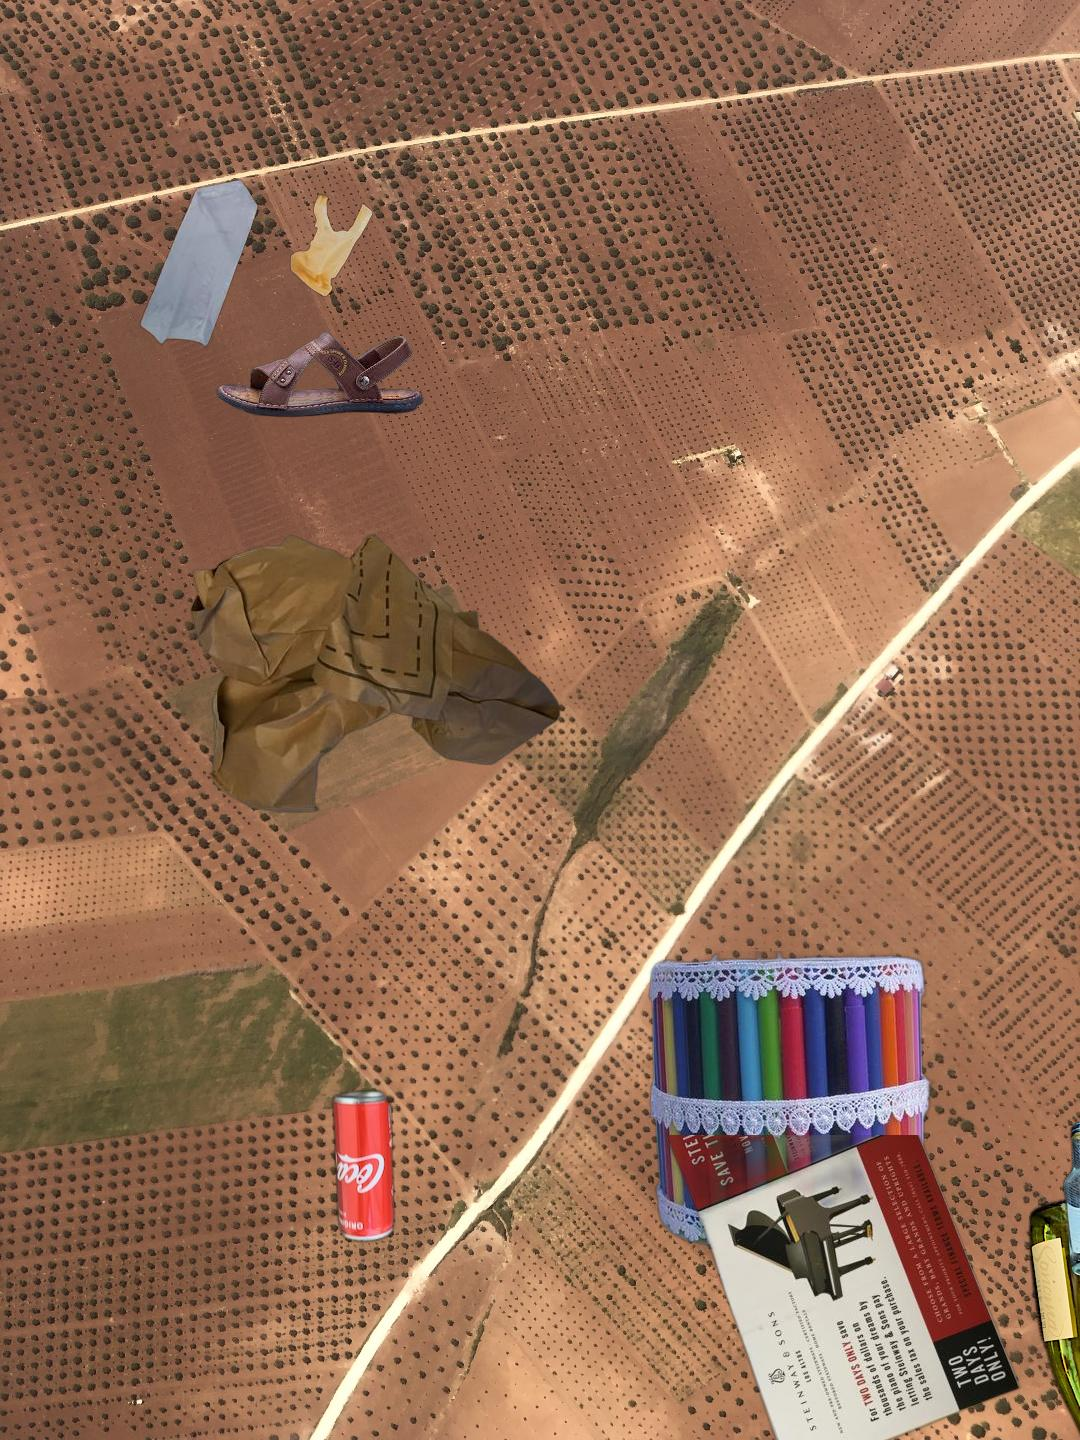glass: (1026, 1191, 1080, 1440), (1060, 1115, 1080, 1284)
metal-cans: (328, 1084, 399, 1247)
paper: (648, 1135, 1027, 1440), (187, 532, 565, 814)
penholder: (646, 951, 938, 1255)
plastic-bag: (137, 100, 374, 350)
shoes: (214, 329, 427, 420)
